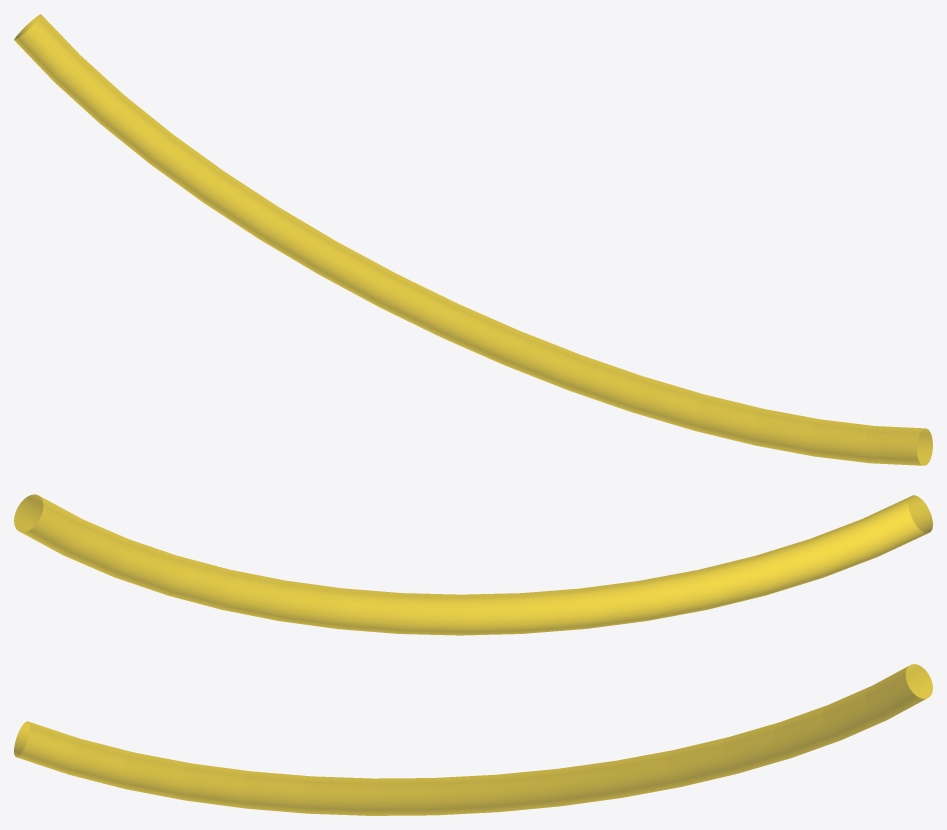
The model's file is Event_27938768_track_78.fbx.
3 views of the same model, one above another, from view 1: azimuth 90°, elevation 25°; view 2: azimuth 150°, elevation 25°; view 3: azimuth 270°, elevation 25° (orthographic). The views are drawn at different scales.
Visible parts, largest first — view 1: Model; view 2: Model; view 3: Model.
Part boxes in pixels (box(x1,y1,x2,y2)): Model: box(14, 14, 932, 465); Model: box(14, 494, 932, 635); Model: box(14, 664, 932, 815).
Size of the model in its own units: 0.4904 by 0.3285 by 0.9741.
